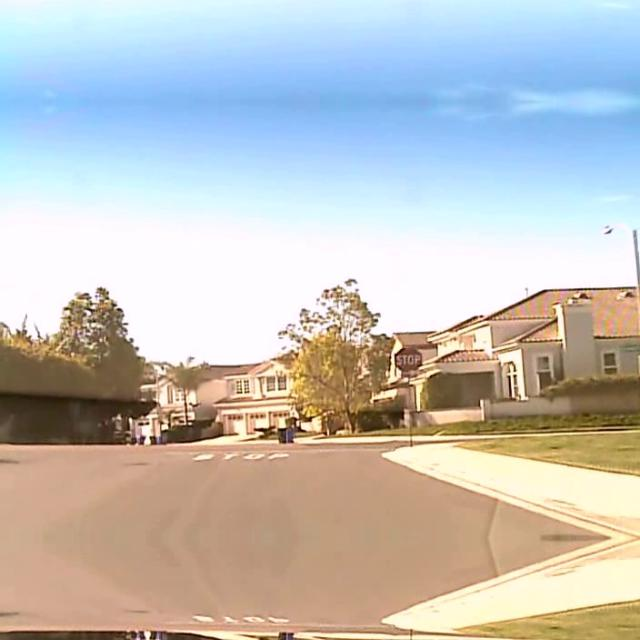stop: (393, 344, 422, 372)
